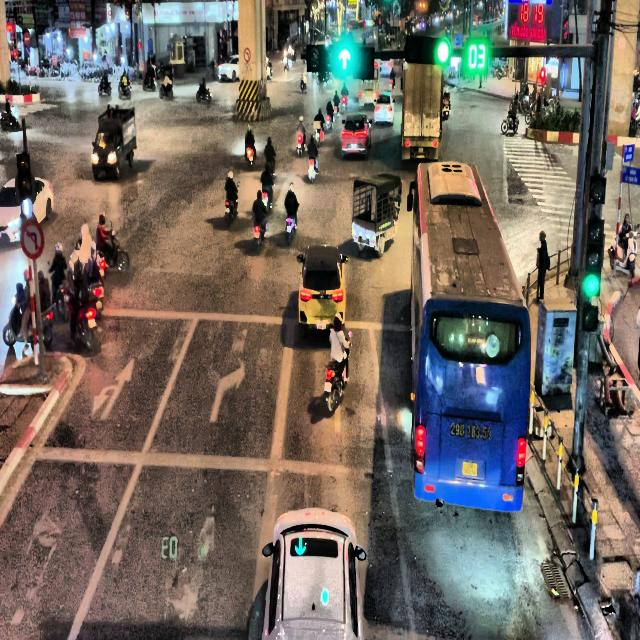BUS: (408, 160, 531, 512)
CAR: (247, 507, 367, 639), (296, 244, 348, 336), (0, 176, 54, 246), (341, 112, 371, 158), (373, 91, 395, 125), (218, 54, 239, 82)
MOTORBIKE: (2, 296, 54, 349), (62, 282, 98, 350), (324, 331, 352, 412), (102, 228, 129, 272), (0, 102, 19, 130), (254, 215, 266, 253), (224, 196, 238, 228), (501, 112, 519, 133), (286, 213, 296, 246), (245, 144, 256, 169), (118, 78, 131, 99), (308, 157, 318, 183), (261, 188, 271, 214), (159, 81, 173, 99), (296, 132, 306, 156), (196, 86, 211, 102), (98, 78, 111, 96), (442, 90, 450, 119), (143, 75, 156, 91), (266, 156, 275, 175), (325, 113, 333, 129), (300, 75, 307, 92)
TRUCK: (401, 62, 443, 161)
